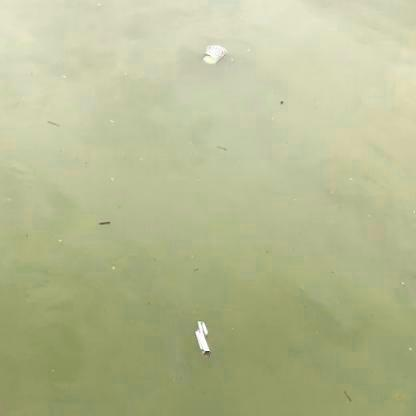Trash: (193, 319, 211, 361), (201, 41, 228, 68)
